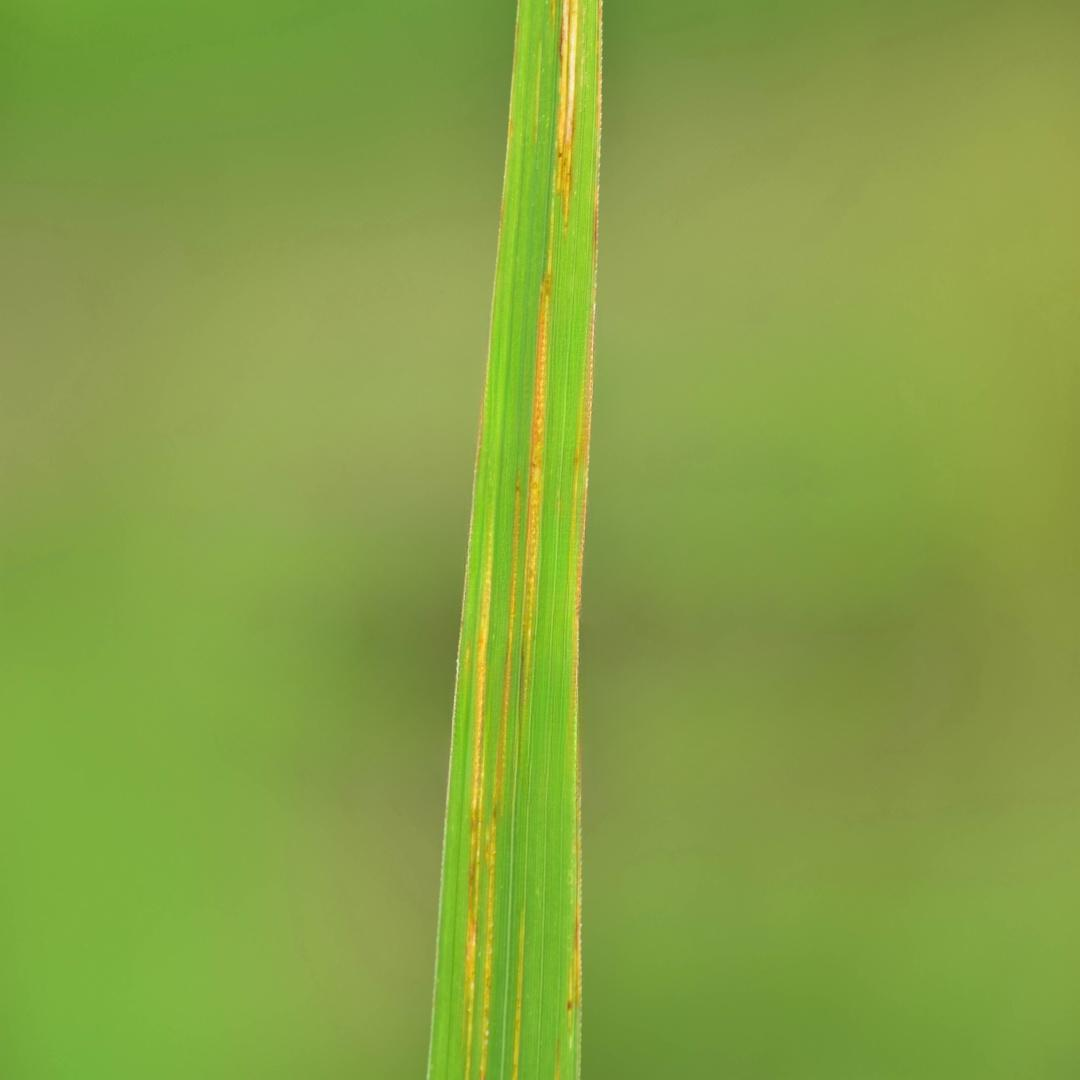BLS: (518, 0, 580, 722), (568, 0, 603, 1007), (481, 469, 521, 1079), (464, 495, 496, 1079), (513, 895, 527, 1079), (534, 43, 542, 145), (567, 963, 573, 1028), (464, 639, 470, 670)
